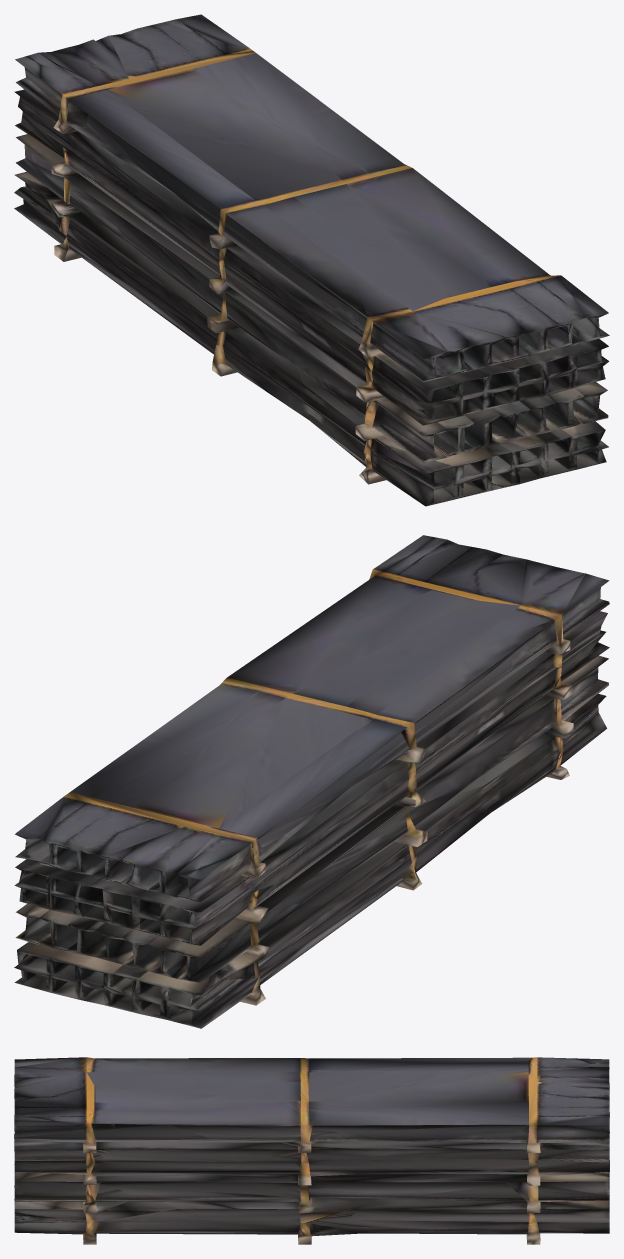
File: beamStack.glb
3 renders of one model, top to bottom at view 1: azimuth 30°, elevation 25°; view 2: azimuth 150°, elevation 25°; view 3: azimuth 270°, elevation 25°, orthographic. The views are drawn at different scales.
Visible parts, largest first — view 1: beamStack; view 2: beamStack; view 3: beamStack.
Boxes of the visible parts, bbox=[...] form: beamStack: bbox=[14, 14, 609, 506]; beamStack: bbox=[14, 535, 609, 1028]; beamStack: bbox=[14, 1057, 609, 1244].
Bounding box in the file's own units: 3.6 × 2.6 × 12.
Materials: 1 (1 with a texture image).
